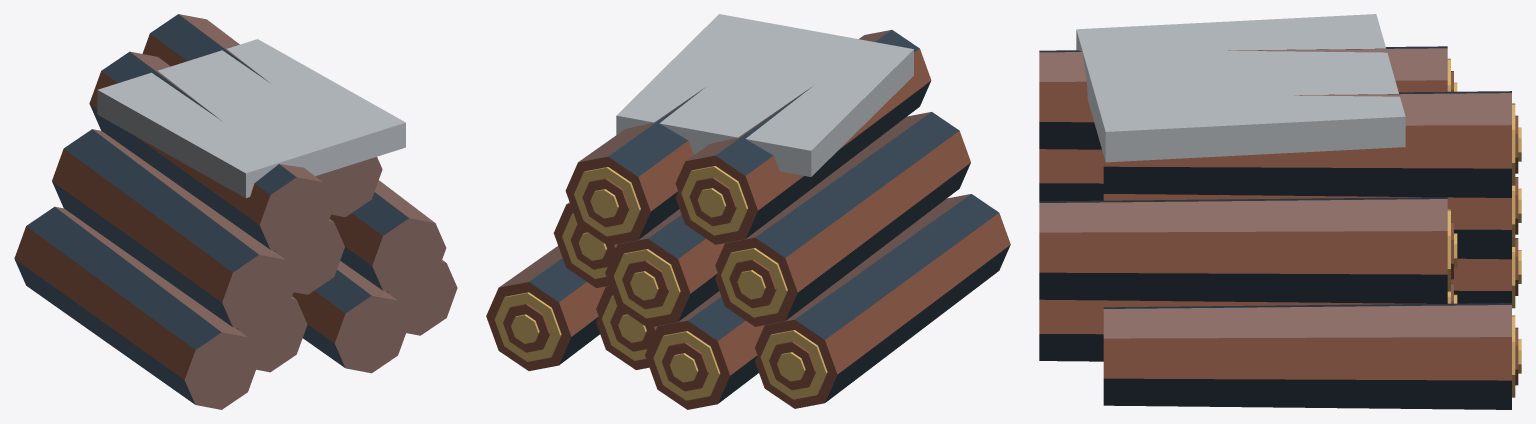
Rendered from wood-pile.glb.
3 views of the same model, side by side, from view 1: azimuth 30°, elevation 25°; view 2: azimuth 150°, elevation 25°; view 3: azimuth 270°, elevation 25° (orthographic). The views are drawn at different scales.
Parts seen in each view (by area): view 1: wood-pile; view 2: wood-pile; view 3: wood-pile.
Boxes of the visible parts, x1,y1,x2,y2 form: wood-pile: (14, 14, 457, 409); wood-pile: (486, 14, 1010, 409); wood-pile: (1039, 14, 1521, 409).
Size of the model in its own units: 1.74 by 1.21 by 1.95.
